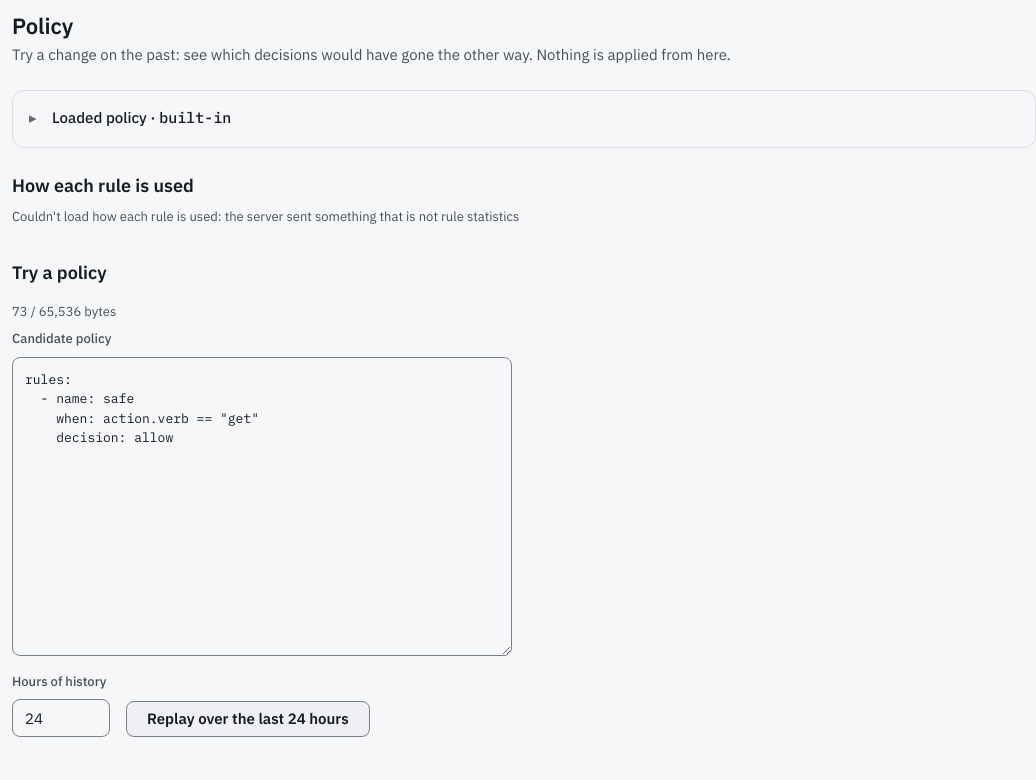
Scenario: Policy › says when nothing would change
Expected: the text "built-in" is shown, 159,108 -> 231,127
What coordinates should you click on to do the following:
click the button "Replay over the last 24 hours"
I would click on:
 (248, 719)
Its box is 126,701 -> 370,737.
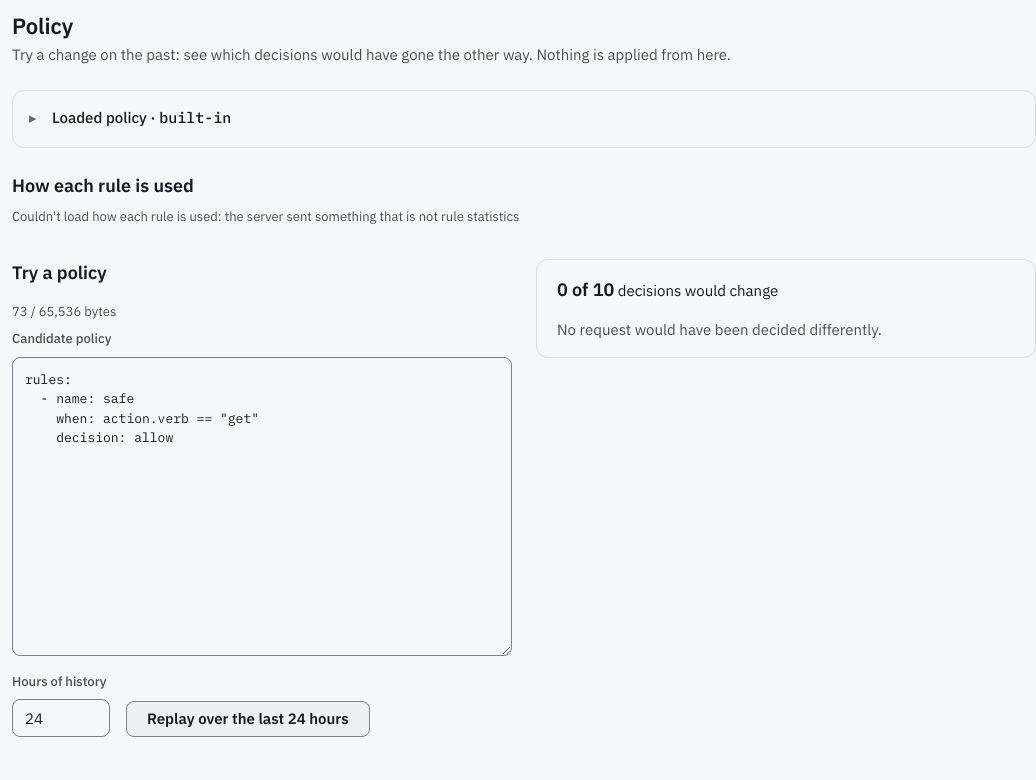
Result: the text "No request would have been decided differently." is shown at 557,320 -> 882,338
